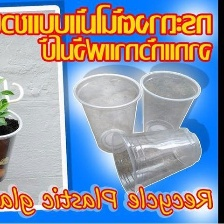glass: (105, 124, 205, 197), (69, 68, 142, 159), (138, 66, 205, 143)
